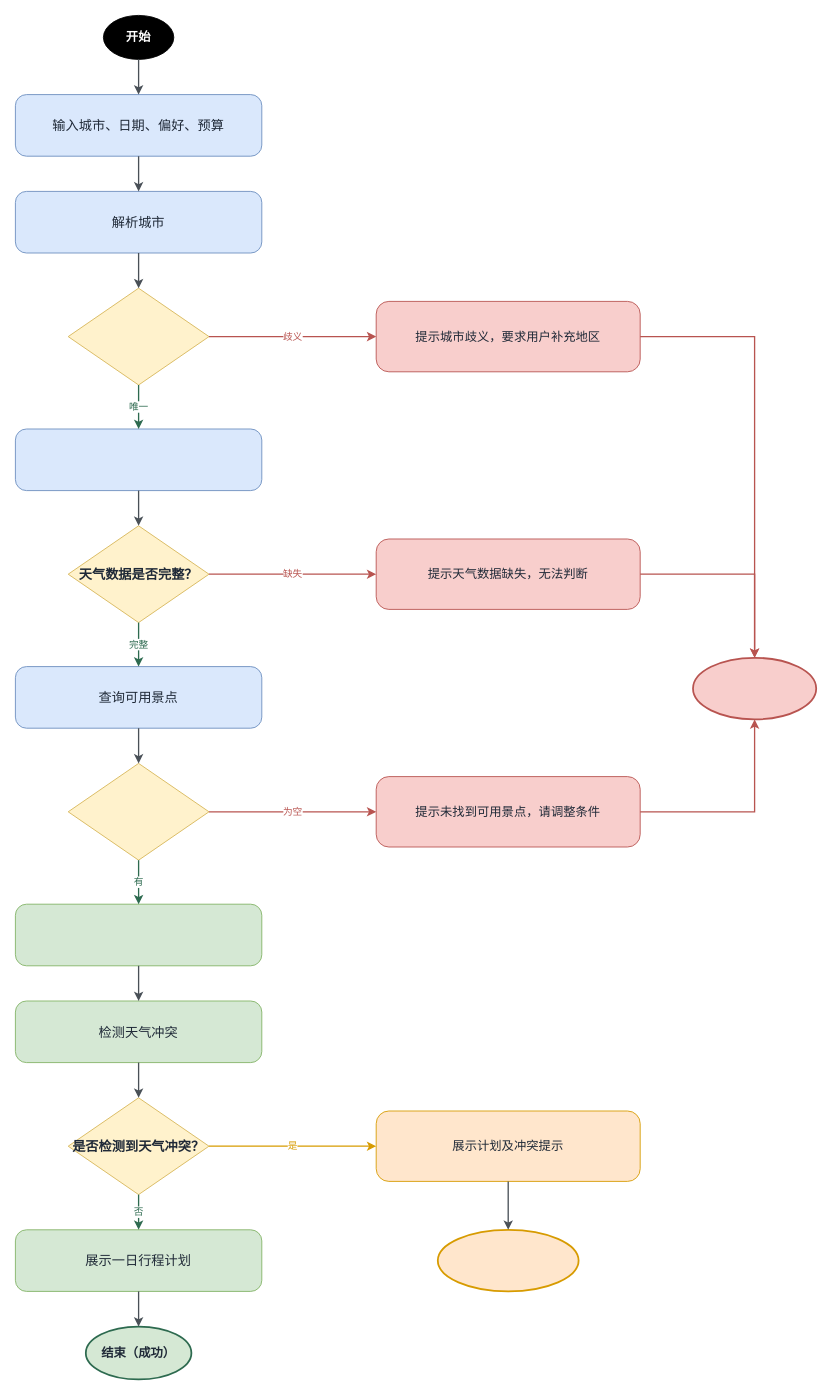
Some shapes in this 832 by 1396 pixel diagram are drawn without their labels. Each missing label, with the centre of its shape:
"城市是否唯一？" belongs at point (138, 336).
"是否存在可用景点？" belongs at point (138, 811).
"查询指定日期天气" belongs at point (138, 459).
"生成早、午、晚日程" belongs at point (138, 934).
"结束（异常）" belongs at point (754, 688).
"结束（等待确认）" belongs at point (507, 1260).
